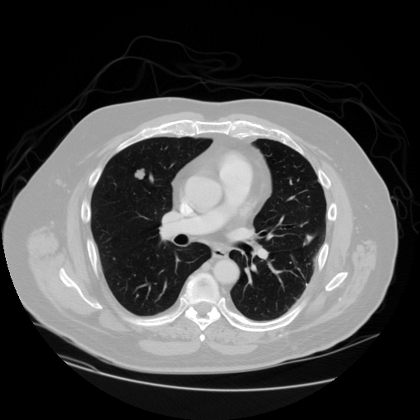nodule: (134, 168, 146, 180)
